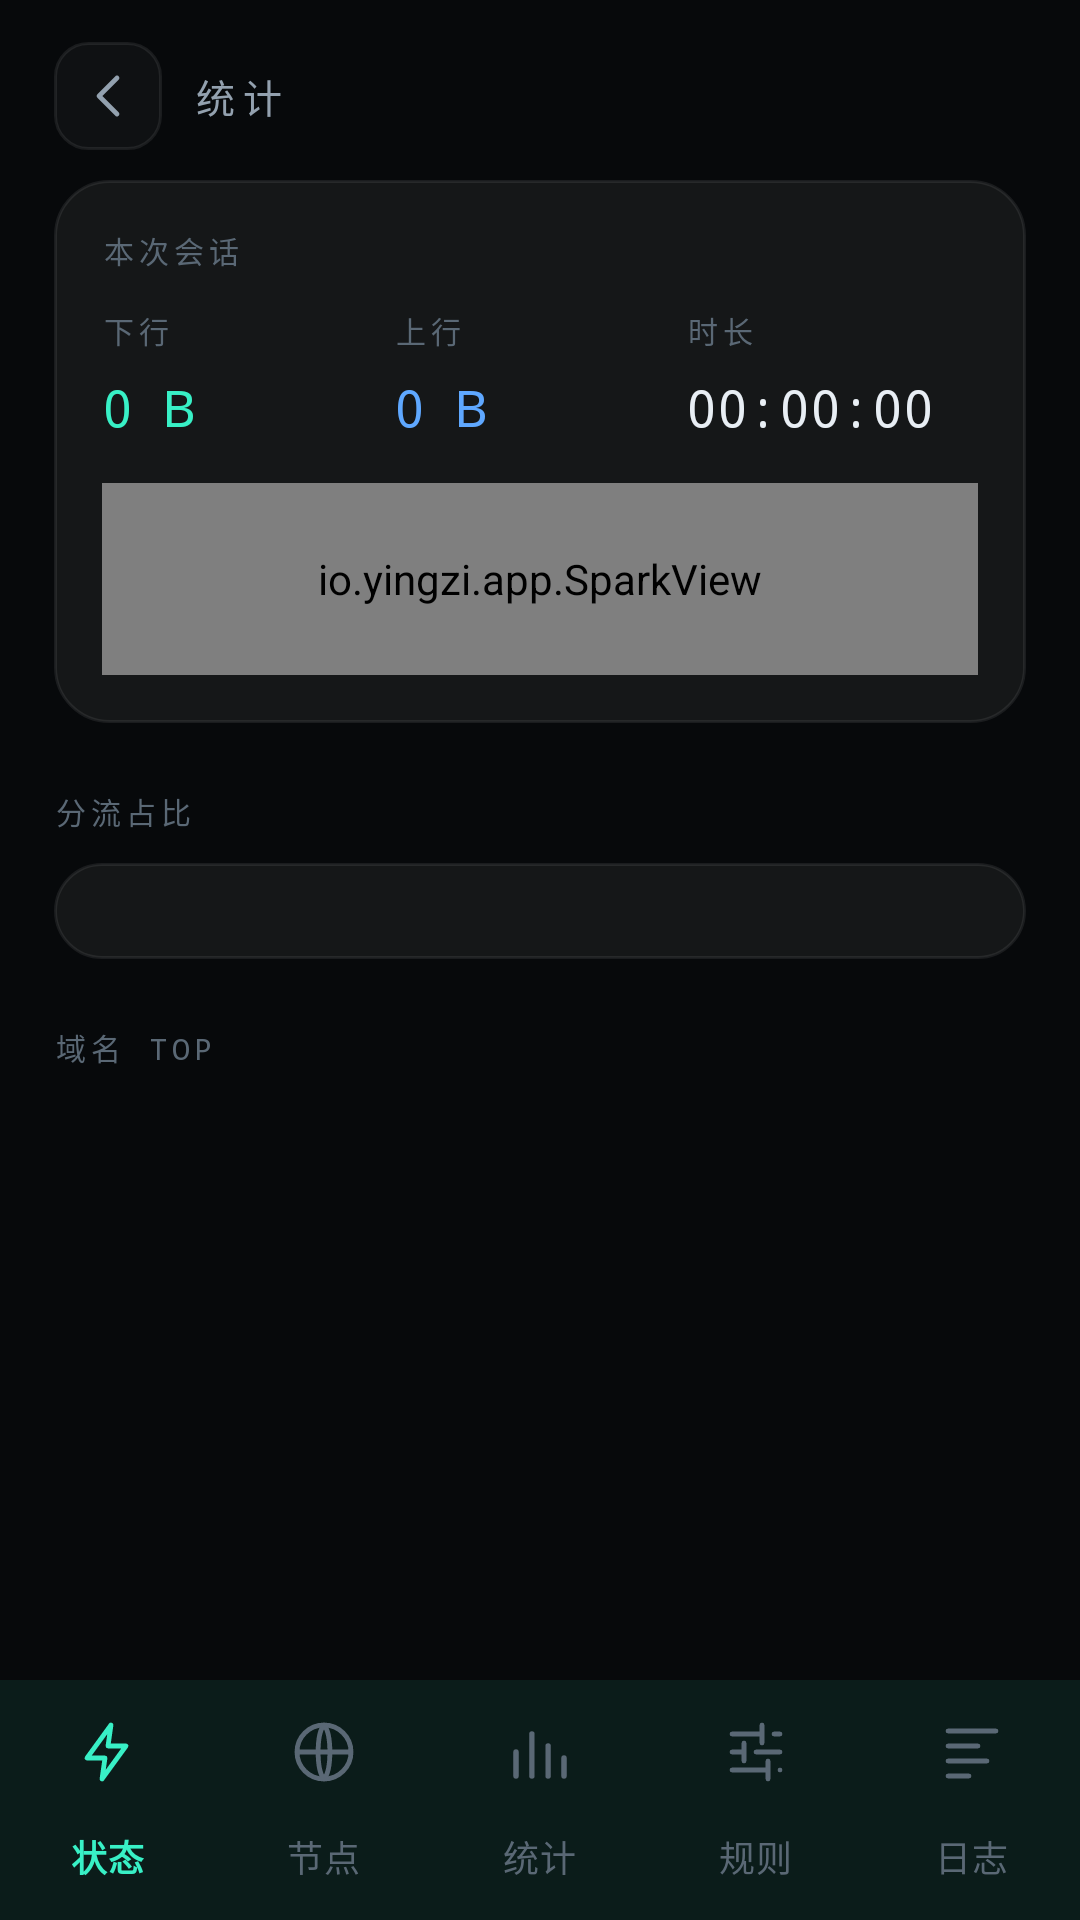

Icons on this 1080x1920 Android screen, each with its box as (left=x1, top=y1, right=x2, bottom=y2):
返回: (left=56, top=44, right=160, bottom=148)
